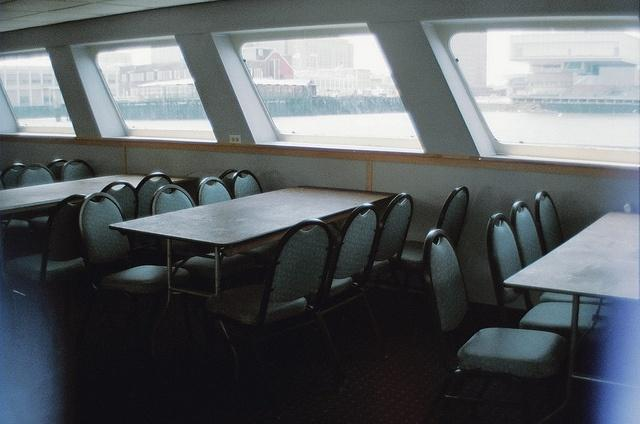Kursi: (424, 228, 568, 381), (204, 217, 331, 373), (487, 212, 615, 341), (78, 190, 189, 298)
Meja: (109, 184, 402, 303)
